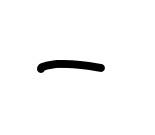minus: (37, 60, 105, 73)
